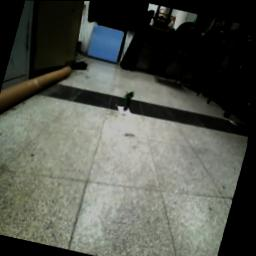herb: (123, 90, 137, 112)
